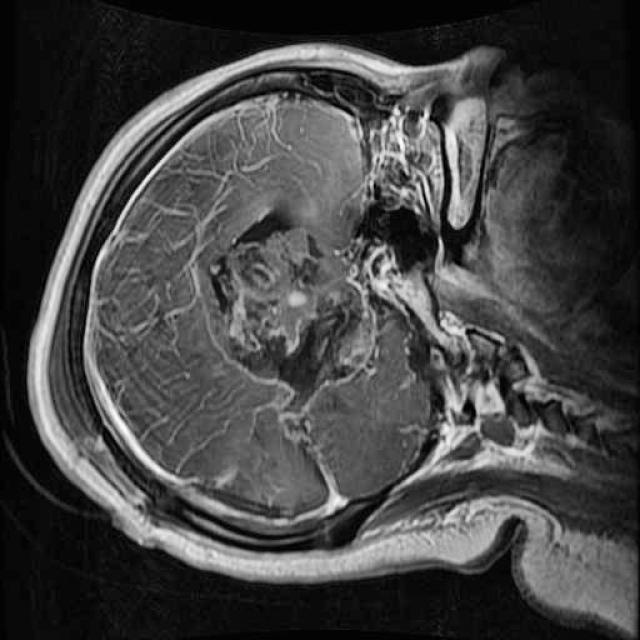Non-Tumor: (202, 204, 388, 390)
